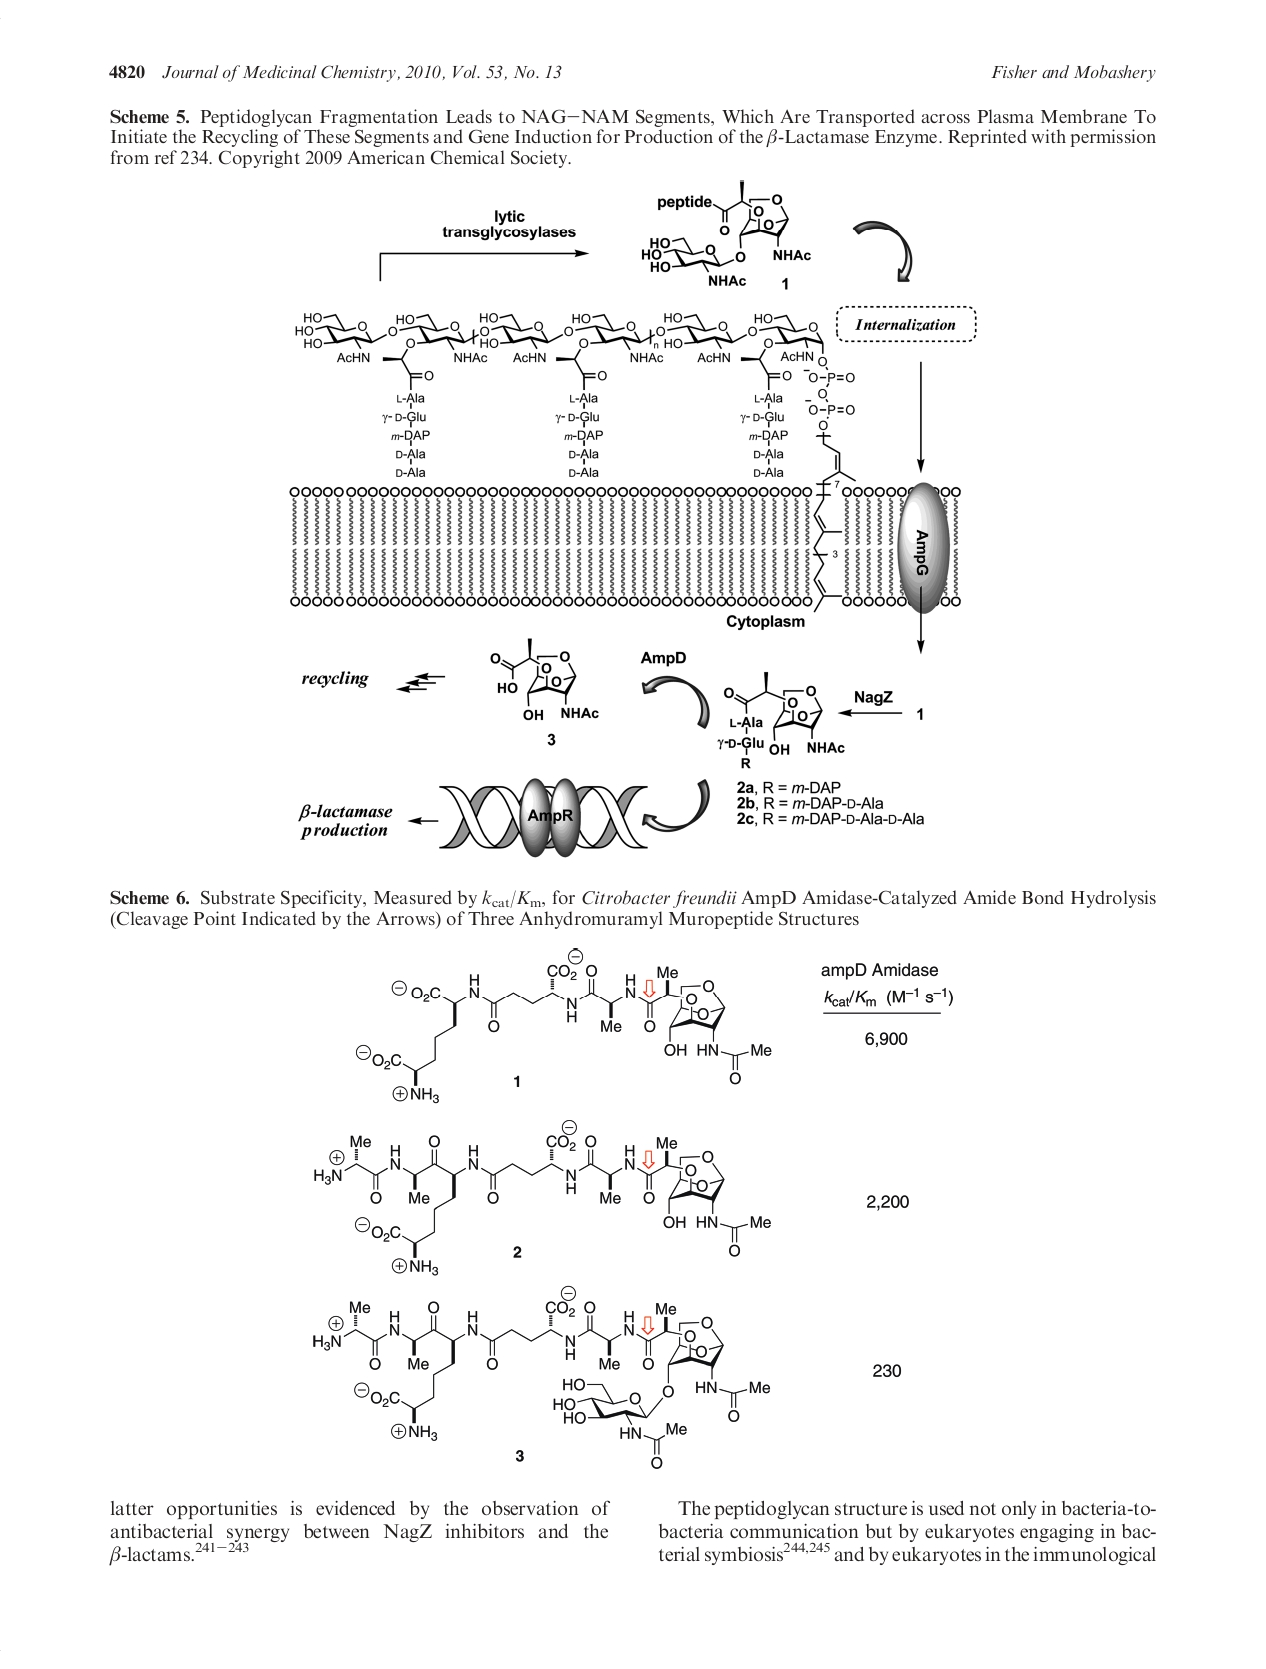exist_molecular: (289, 295, 864, 620), (309, 1295, 771, 1470), (347, 936, 778, 1108), (306, 1122, 783, 1277), (636, 172, 814, 293), (725, 664, 846, 777), (481, 630, 602, 722)
